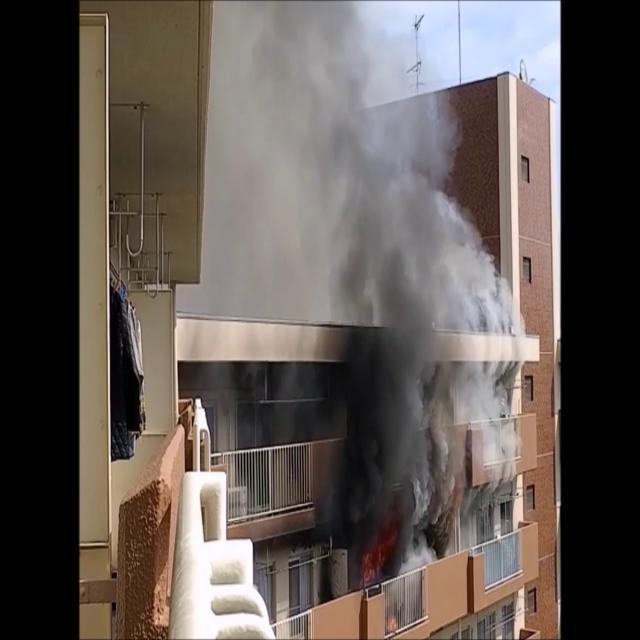Smoke: (217, 7, 525, 556)
